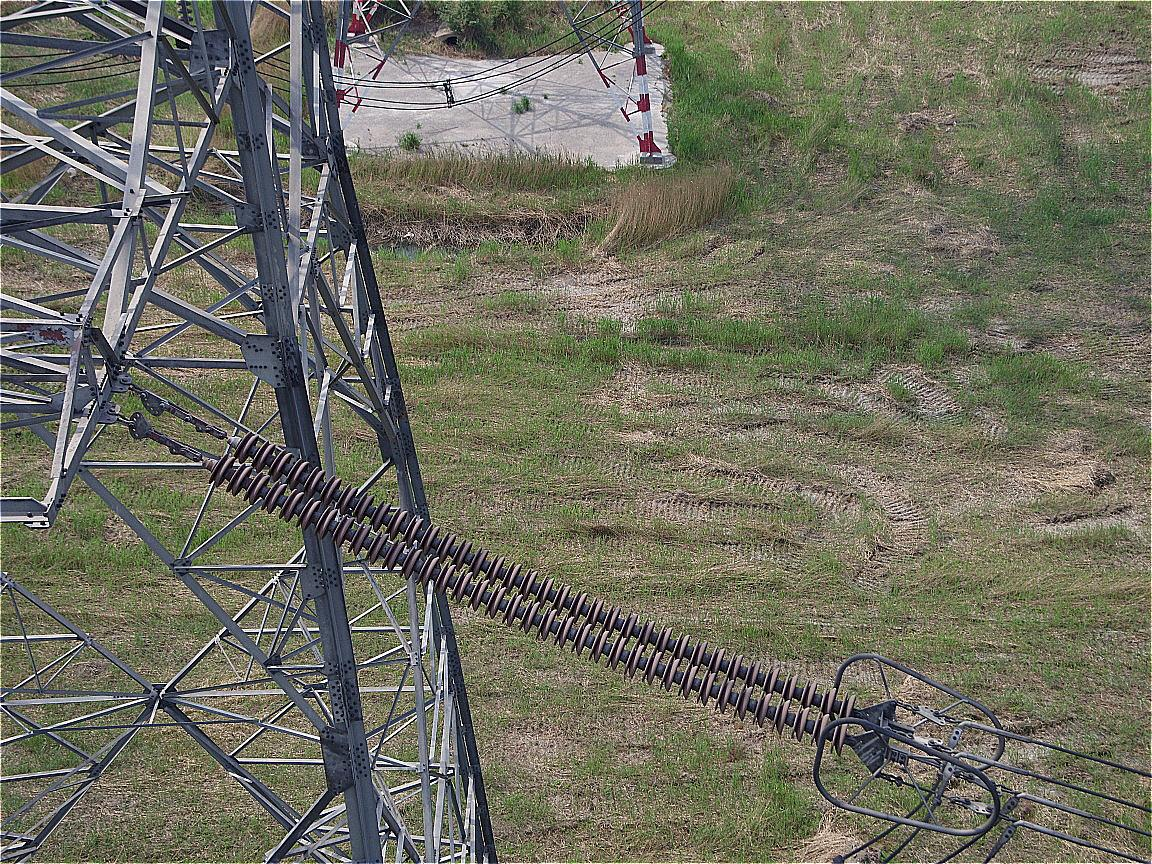insultor2: (210, 432, 855, 757)
